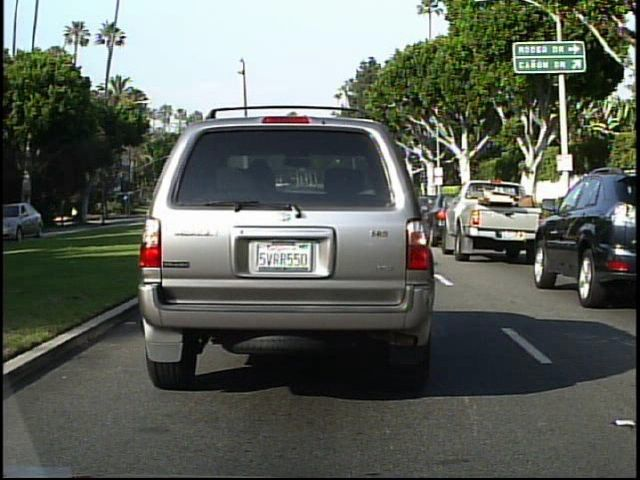person: (70, 206, 79, 224)
